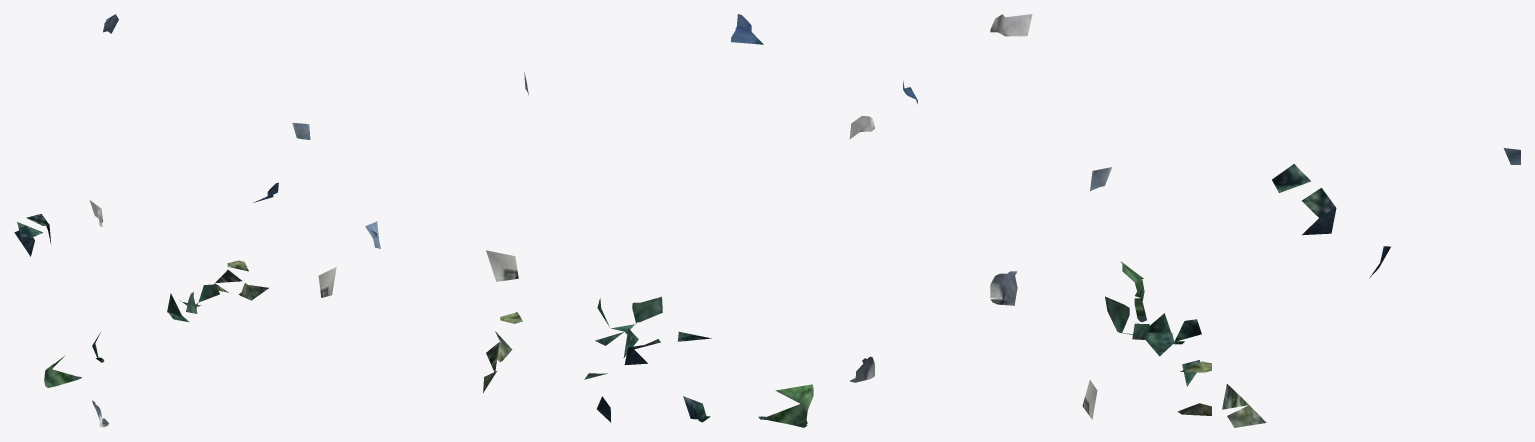
The picture shows the model from 3 angles, left to right: view 1: azimuth 30°, elevation 25°; view 2: azimuth 150°, elevation 25°; view 3: azimuth 270°, elevation 25°; orthographic projection. The views are drawn at different scales.
Parts seen in each view (by area): view 1: 30436272704370417605_1; view 2: 30436272704370417605_1; view 3: 30436272704370417605_1.
Part boxes in pixels (left/top/right/bottom): 30436272704370417605_1: left=14, top=14, right=336, bottom=427; 30436272704370417605_1: left=365, top=14, right=874, bottom=427; 30436272704370417605_1: left=903, top=14, right=1520, bottom=427.
Size of the model in its own units: 26.09 by 21.27 by 38.26.
Materials: 1 (1 with a texture image).
